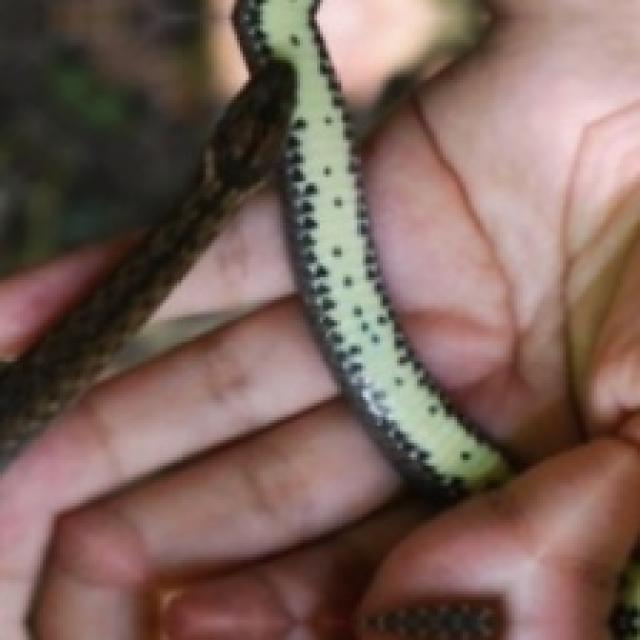reinhardts lined snake: (0, 0, 506, 491)
